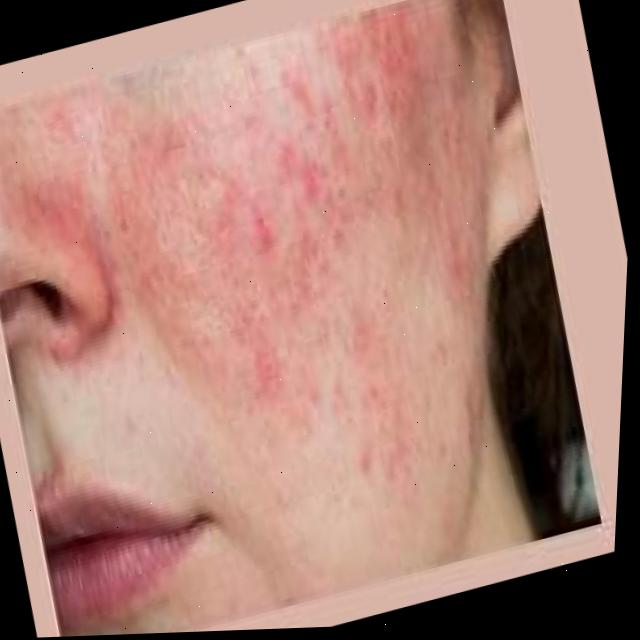Rosacea: (68, 0, 515, 537)
